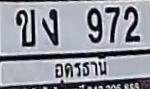2: (123, 6, 140, 42)
7: (105, 6, 120, 42)
9: (86, 7, 103, 43)
A02: (15, 8, 35, 46)
A07: (41, 8, 58, 45)
UDN: (49, 55, 111, 84)
